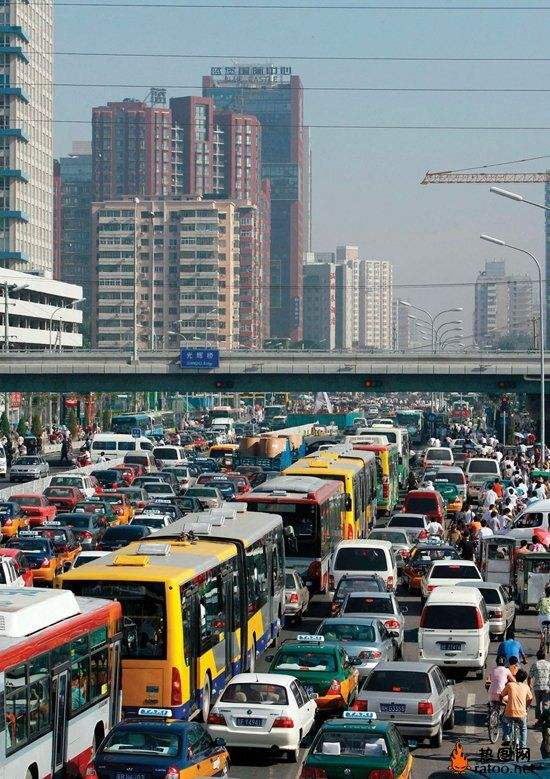bus: (58, 507, 285, 721), (223, 473, 353, 602)
car: (207, 668, 321, 763), (355, 660, 457, 747), (314, 614, 402, 677)
microbus: (419, 584, 491, 678), (326, 538, 397, 614), (89, 431, 156, 470), (400, 490, 445, 539), (422, 465, 468, 511)
